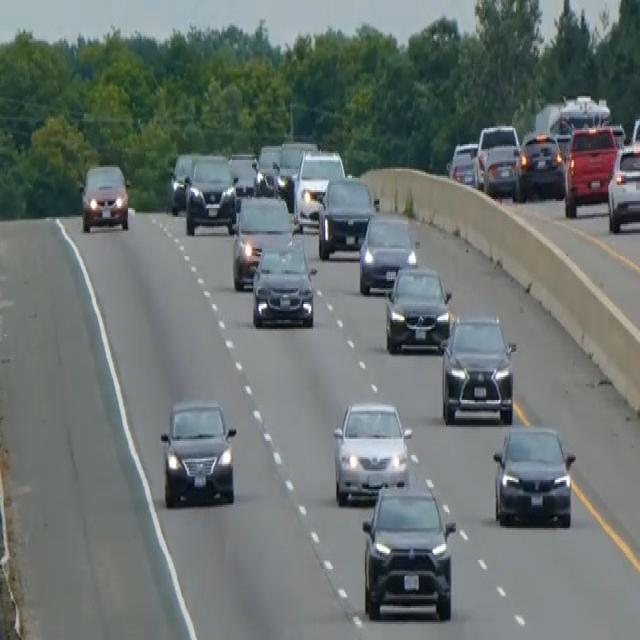car: (360, 480, 456, 620), (491, 423, 575, 528), (440, 313, 517, 425), (332, 398, 412, 505), (159, 396, 236, 506), (383, 261, 452, 354), (250, 233, 316, 329), (231, 192, 293, 288), (563, 123, 618, 215), (358, 210, 417, 295), (317, 174, 376, 258), (184, 153, 237, 235), (292, 148, 345, 230), (77, 160, 130, 233), (513, 130, 565, 201), (474, 121, 520, 195), (606, 140, 639, 233), (276, 138, 318, 204), (168, 149, 201, 215), (228, 150, 259, 196), (448, 139, 478, 185), (256, 142, 281, 190)
